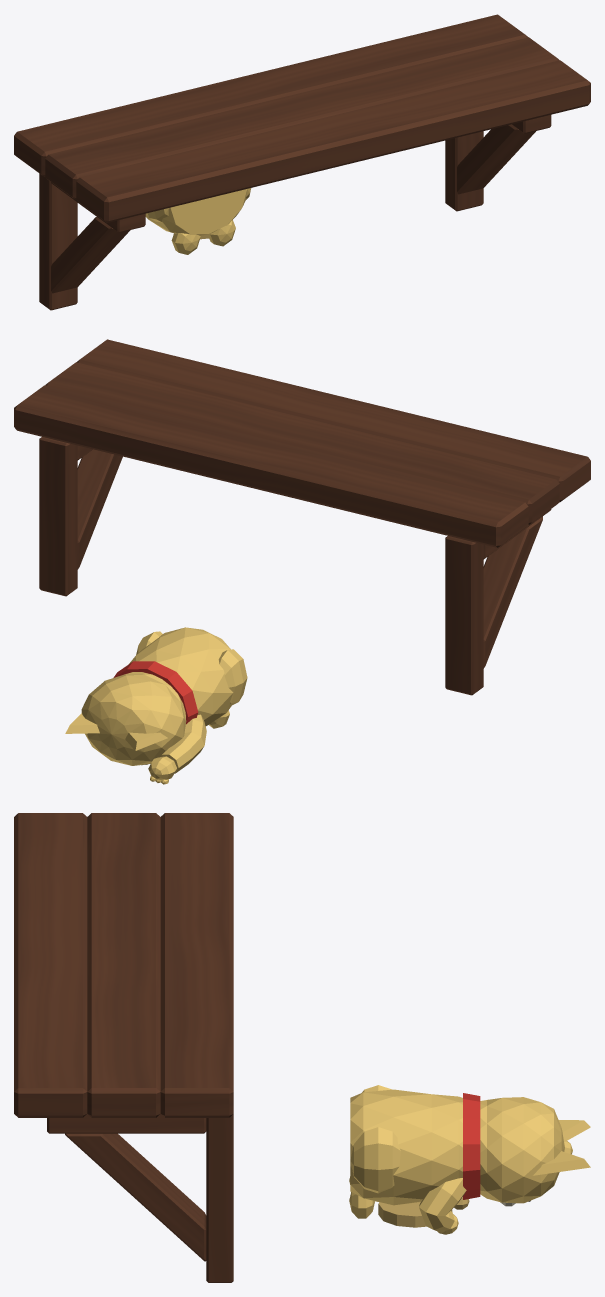
Rendered from 10_Repisa_Maneki.fbx.
3 views of the same model, one above another, from view 1: azimuth 30°, elevation 25°; view 2: azimuth 150°, elevation 25°; view 3: azimuth 270°, elevation 25° (orthographic). The views are drawn at different scales.
Parts seen in each view (by area): view 1: SM_10_Repisa, SM_10_Maneki_Neko; view 2: SM_10_Repisa, SM_10_Maneki_Neko; view 3: SM_10_Repisa, SM_10_Maneki_Neko.
Boxes of the visible parts, x1,y1,x2,y2 form: SM_10_Repisa: [14, 14, 590, 310]; SM_10_Maneki_Neko: [145, 188, 251, 254]; SM_10_Repisa: [14, 339, 590, 695]; SM_10_Maneki_Neko: [65, 627, 247, 784]; SM_10_Repisa: [14, 813, 233, 1282]; SM_10_Maneki_Neko: [349, 1085, 590, 1234].
Size of the model in its own units: 0.6 by 0.265 by 0.525.
